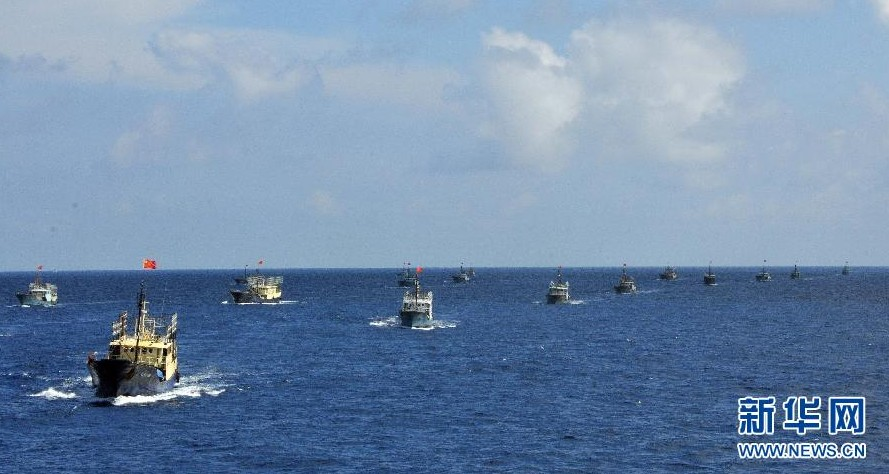otherboat: (81, 292, 194, 396), (225, 264, 289, 310), (390, 282, 440, 329), (14, 275, 65, 312), (545, 275, 571, 307), (607, 271, 638, 296), (749, 266, 775, 285), (453, 267, 474, 283), (703, 263, 717, 286)
